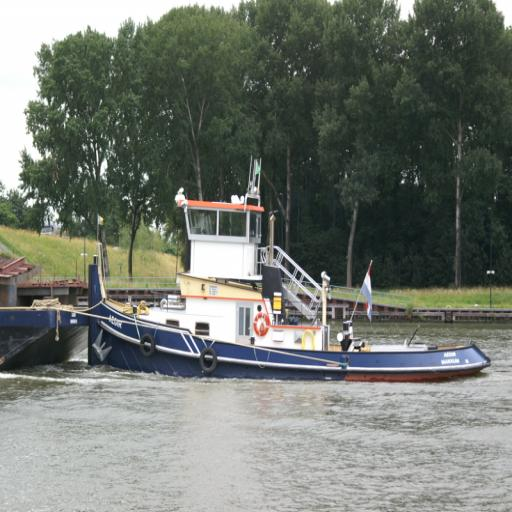tugboat: (86, 154, 495, 392)
